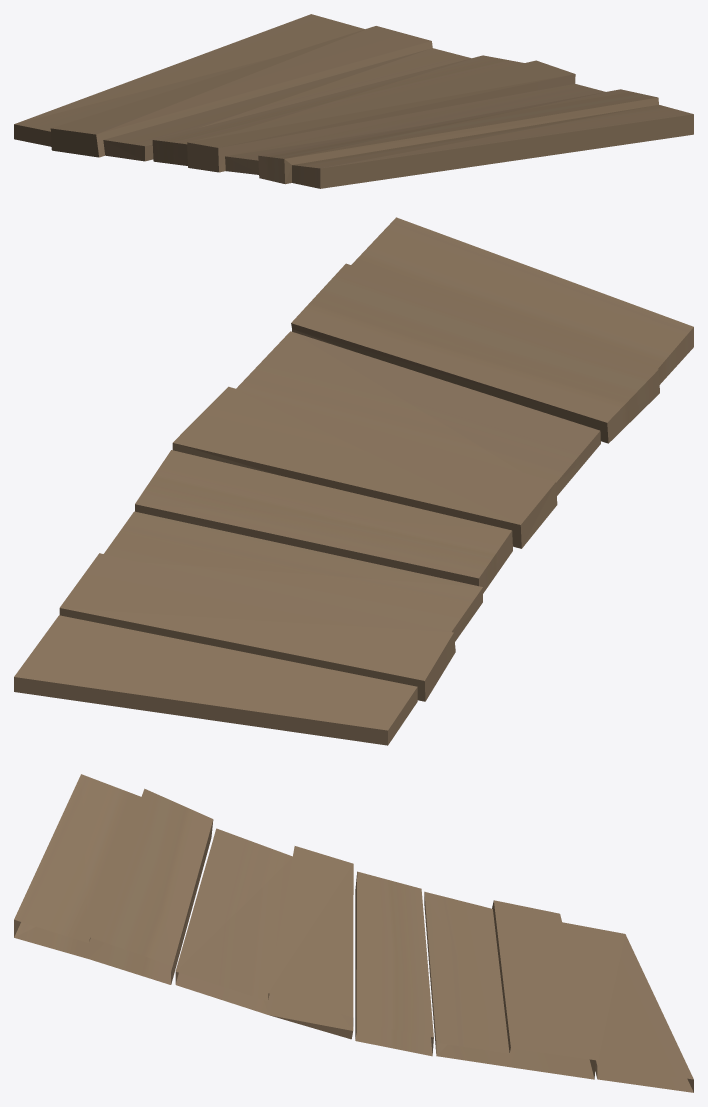
The model's file is SM_I_PlatformWoodenSlanted.FBX.
3 renders of one model, top to bottom at view 1: azimuth 30°, elevation 25°; view 2: azimuth 150°, elevation 25°; view 3: azimuth 270°, elevation 25°, orthographic. The views are drawn at different scales.
Visible parts, largest first — view 1: SM_I_PlatformWoodenSlanted; view 2: SM_I_PlatformWoodenSlanted; view 3: SM_I_PlatformWoodenSlanted.
Boxes of the visible parts, left/top/right/bottom form: SM_I_PlatformWoodenSlanted: left=14, top=14, right=693, bottom=188; SM_I_PlatformWoodenSlanted: left=14, top=217, right=693, bottom=745; SM_I_PlatformWoodenSlanted: left=14, top=774, right=693, bottom=1092.
Bounding box in the file's own units: 71.1 × 35.85 × 128.
